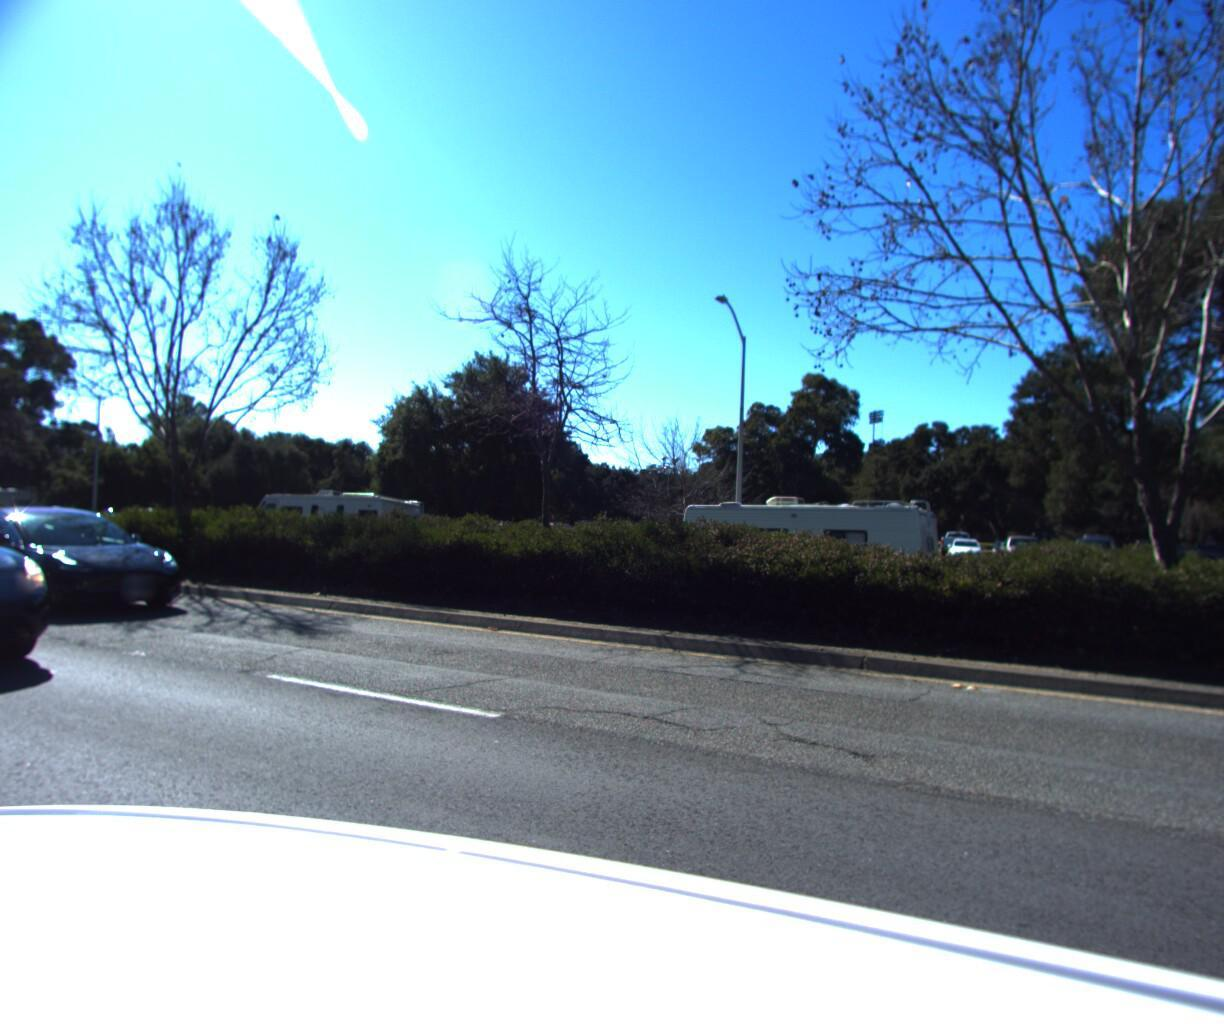car: (0, 474, 93, 708), (0, 515, 171, 625), (1017, 539, 1224, 617)
other_vehicle: (671, 492, 950, 615), (241, 490, 427, 575), (0, 484, 46, 546)
